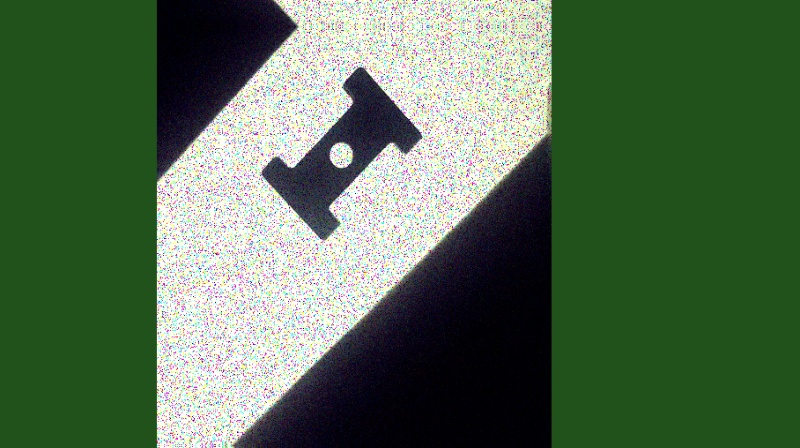O002: (259, 62, 426, 242)
